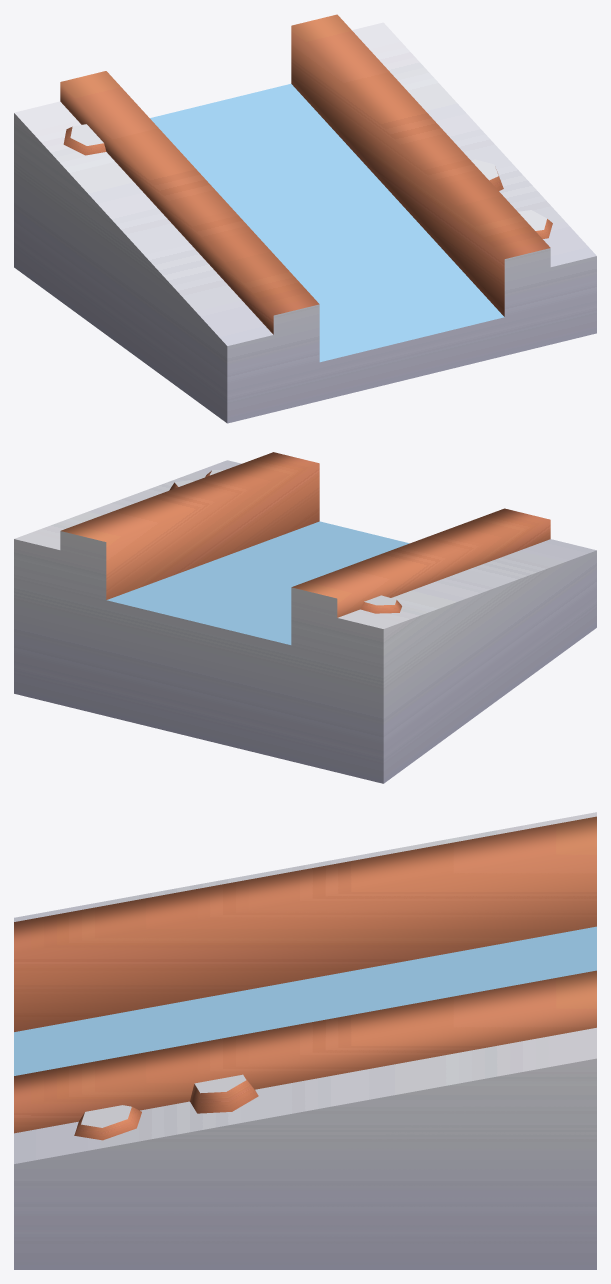
File: snow-tile-river-slope.glb
The picture shows the model from 3 angles, top to bottom: view 1: azimuth 30°, elevation 25°; view 2: azimuth 150°, elevation 25°; view 3: azimuth 270°, elevation 25°; orthographic projection. The views are drawn at different scales.
Visible parts, largest first — view 1: snow-tile-river-slope; view 2: snow-tile-river-slope; view 3: snow-tile-river-slope.
Part boxes in pixels (bbox=[...]): snow-tile-river-slope: bbox=[14, 14, 596, 423]; snow-tile-river-slope: bbox=[14, 452, 596, 783]; snow-tile-river-slope: bbox=[14, 812, 596, 1269].
Size of the model in its own units: 1 by 0.45 by 1.
Materials: 1 (1 with a texture image).
